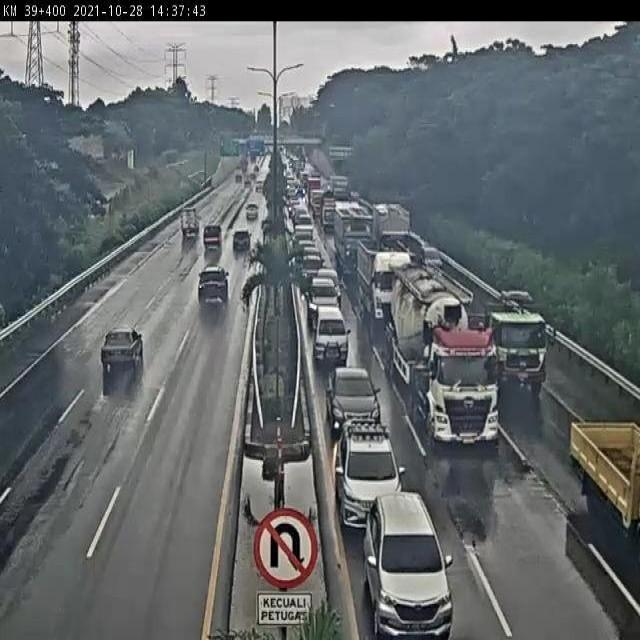big truck: (386, 264, 494, 448), (461, 267, 543, 385), (348, 232, 404, 323), (335, 200, 375, 279)
car: (356, 489, 455, 640), (333, 415, 404, 524), (323, 362, 379, 429), (92, 320, 146, 380), (311, 306, 355, 371), (191, 262, 231, 310), (411, 241, 446, 288), (305, 277, 343, 315), (225, 227, 254, 272), (199, 219, 224, 257), (298, 245, 327, 276), (239, 200, 260, 228)
small truck: (552, 400, 640, 551), (173, 200, 203, 241)
